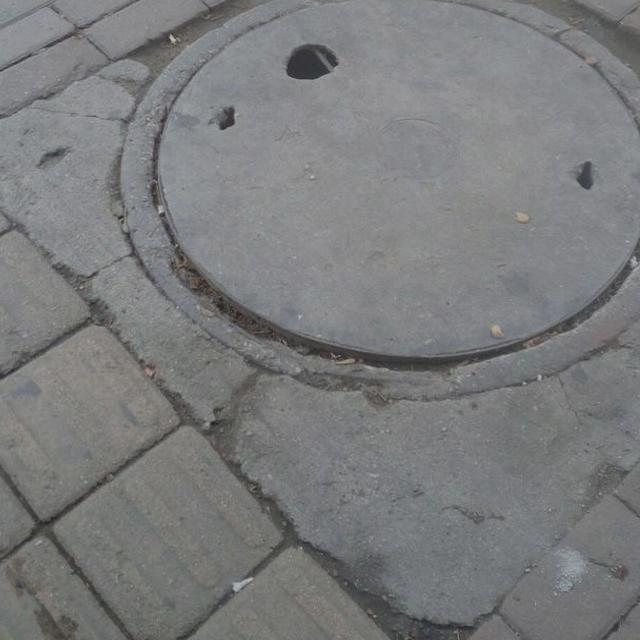broke: (117, 0, 640, 402)
